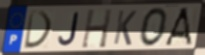A: (163, 6, 194, 47)
D: (22, 10, 54, 51)
H: (80, 8, 114, 50)
J: (57, 11, 80, 48)
K: (112, 9, 139, 47)
O: (139, 7, 170, 48)
